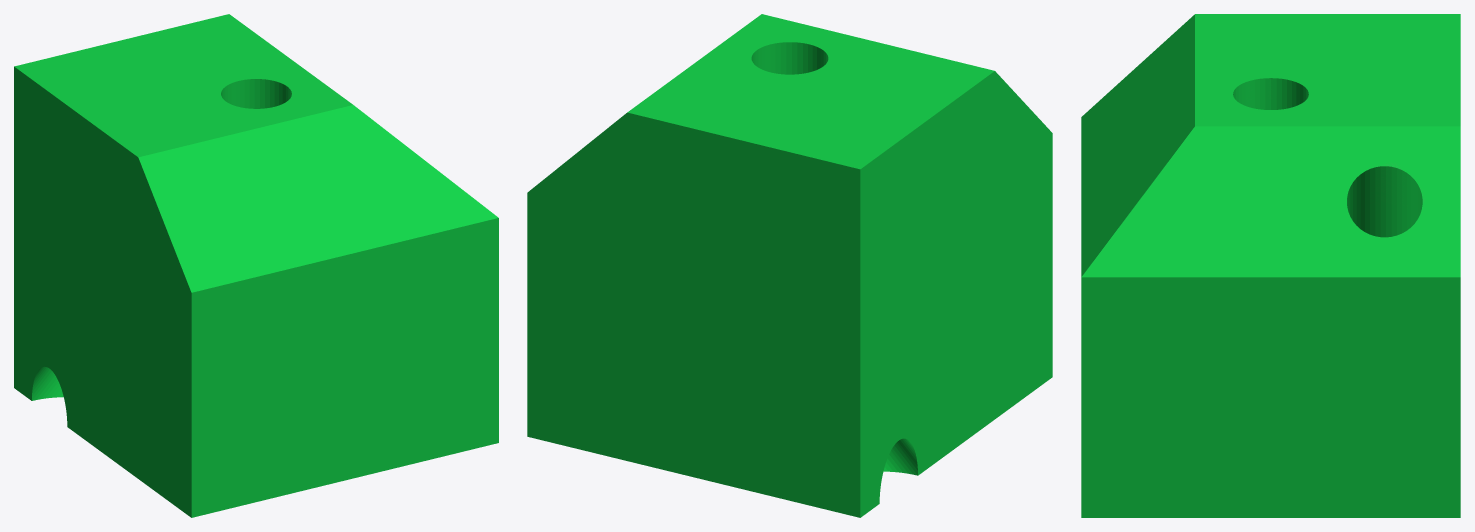
Rendered from T-block-green.glb.
3 renders of one model, left to right at view 1: azimuth 30°, elevation 25°; view 2: azimuth 150°, elevation 25°; view 3: azimuth 270°, elevation 25°, orthographic. The views are drawn at different scales.
Parts seen in each view (by area): view 1: node_id5; view 2: node_id5; view 3: node_id5.
Part boxes in pixels (bbox=[...]): node_id5: bbox=[14, 14, 498, 517]; node_id5: bbox=[527, 14, 1052, 517]; node_id5: bbox=[1081, 14, 1460, 517].
Bounding box in the file's own units: 0.3133 × 0.3133 × 0.3133.
Materials: 1 (1 with a texture image).
